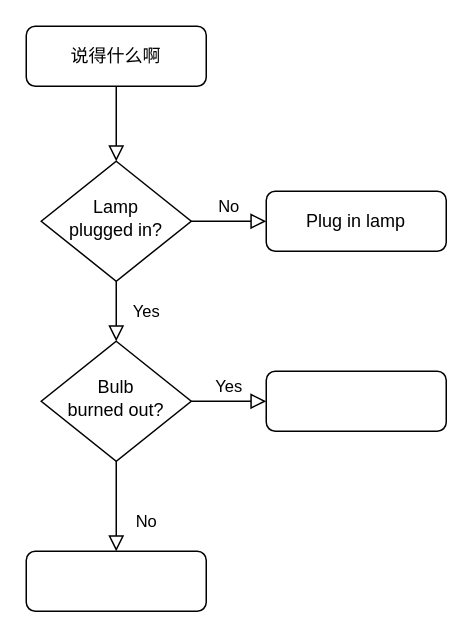
Some shapes in this 473 by 638 pixel diagram are drawn without their labels. The centre of each missing label's shape, as x and y in pixels:
Repair Lamp: point 115,580
Replace Bulb: point 355,400
